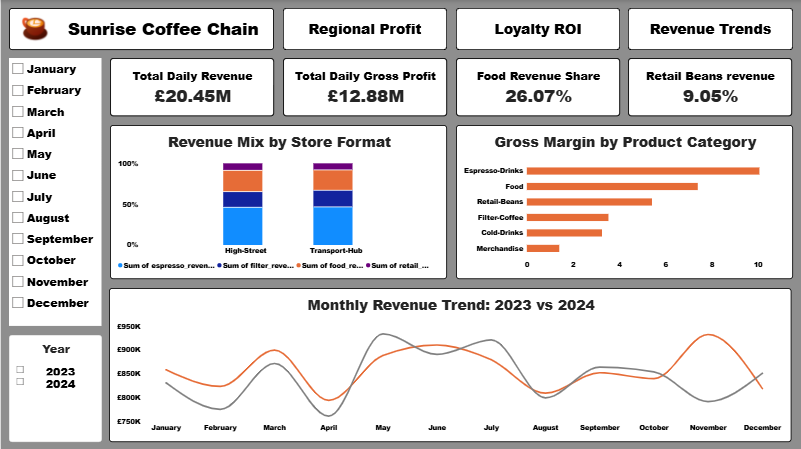

This screenshot's page, from the dashboard's own definition file:
{"tool":"powerbi","page":{"name":"Revenue Trends","canvas":[1920,1080],"ordinal":2},"visuals":[{"type":"hundredPercentStackedColumnChart","title":"Revenue Mix by Store Format","fields":{"Category":["dim_store.store_format"],"Y":["Sum(fact_daily_sales.espresso_revenue_gbp)","Sum(fact_daily_sales.filter_revenue_gbp)","Sum(fact_daily_sales.food_revenue_gbp)","Sum(fact_daily_sales.retail_beans_revenue_gbp)"]},"box":[261.6,300,809,370],"z":0},{"type":"lineChart","title":"Monthly Revenue Trend: 2023 vs 2024","fields":{"Category":["dim_date.month_name"],"Series":["dim_date.year"],"Y":["fact_daily_sales.Total Daily Revenue"]},"box":[260,690,1638,370],"z":1000},{"type":"barChart","title":"Gross Margin by Product Category","fields":{"Category":["dim_product.product_category"],"Y":["Sum(dim_product.gross_margin_pct)"]},"box":[1092,300,809,370],"z":2000},{"type":"cardVisual","fields":{"Data":["fact_daily_sales.Total Daily Revenue"]},"box":[262,140,394,140],"z":3000},{"type":"cardVisual","fields":{"Data":["fact_daily_sales.Total Daily Gross Profit"]},"box":[676.8,140,394,140],"z":4000},{"type":"cardVisual","fields":{"Data":["fact_daily_sales.Food Revenue Share"]},"box":[1092,140,394,140],"z":5000},{"type":"cardVisual","fields":{"Data":["fact_daily_sales.Retail Beans revenue Share"]},"box":[1504.8,140,394,140],"z":6000},{"type":"slicer","fields":{"Values":["dim_date.month_name"]},"box":[20,140,222,643.2],"z":7000},{"type":"listSlicer","title":"Year","fields":{"Values":["dim_date.year"]},"box":[19.2,804,223.2,256.8],"z":8000},{"type":"actionButton","box":[676.8,20,393.6,100.8],"z":8001},{"type":"actionButton","box":[1092,20,393.6,100.8],"z":8002},{"type":"actionButton","box":[1504.8,20,396,100.8],"z":8003},{"type":"actionButton","box":[20,20,636,100.8],"z":8004}]}

Visuals, with their boxes in screenshot pixels (x1, y1, x2, y2), scaled from the page's 1920x1080 canvas onto the 801x449 screenshot:
"Revenue Mix by Store Format" hundredPercentStackedColumnChart: <bbox>109, 125, 447, 279</bbox>
"Monthly Revenue Trend: 2023 vs 2024" lineChart: <bbox>108, 287, 792, 441</bbox>
"Gross Margin by Product Category" barChart: <bbox>456, 125, 793, 279</bbox>
cardVisual - fact_daily_sales.Total Daily Revenue: <bbox>109, 58, 274, 116</bbox>
cardVisual - fact_daily_sales.Total Daily Gross Profit: <bbox>282, 58, 447, 116</bbox>
cardVisual - fact_daily_sales.Food Revenue Share: <bbox>456, 58, 620, 116</bbox>
cardVisual - fact_daily_sales.Retail Beans revenue Share: <bbox>628, 58, 792, 116</bbox>
slicer - dim_date.month_name: <bbox>8, 58, 101, 326</bbox>
"Year" listSlicer: <bbox>8, 334, 101, 441</bbox>
actionButton: <bbox>282, 8, 447, 50</bbox>
actionButton: <bbox>456, 8, 620, 50</bbox>
actionButton: <bbox>628, 8, 793, 50</bbox>
actionButton: <bbox>8, 8, 274, 50</bbox>
